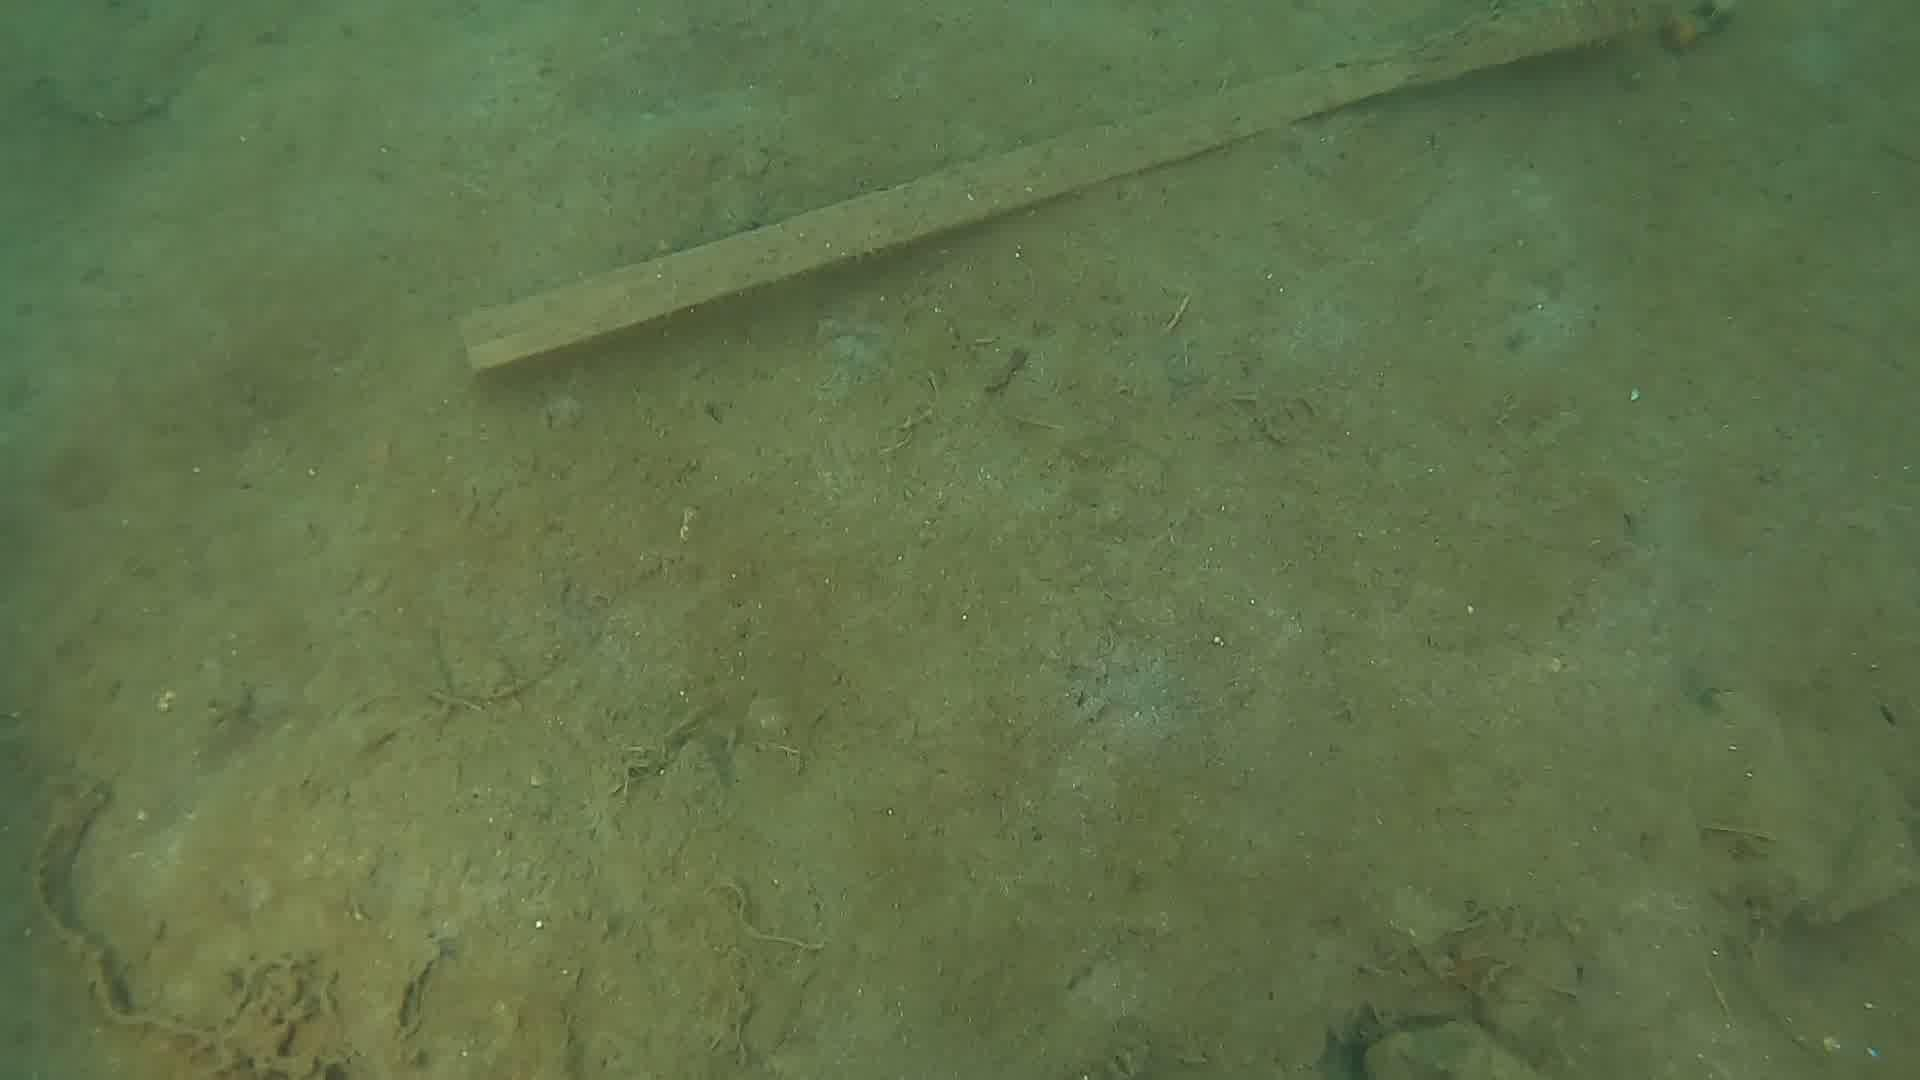wood: (456, 0, 1708, 368)
